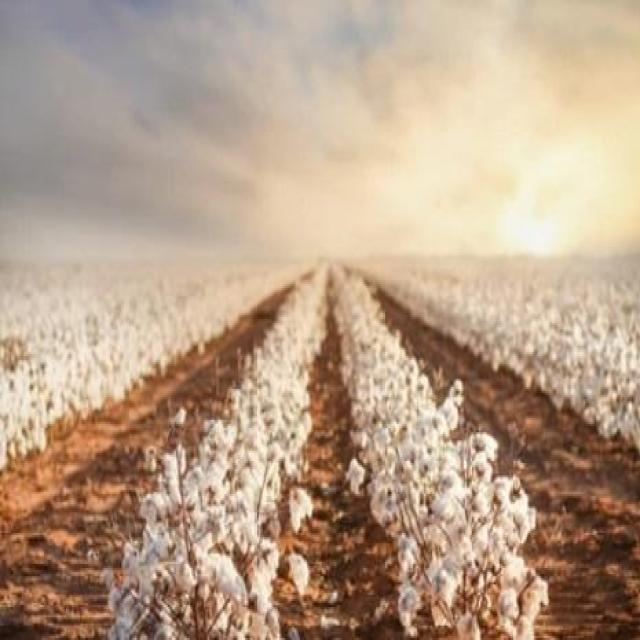row: (0, 279, 300, 640), (374, 291, 640, 640), (278, 275, 415, 640)
